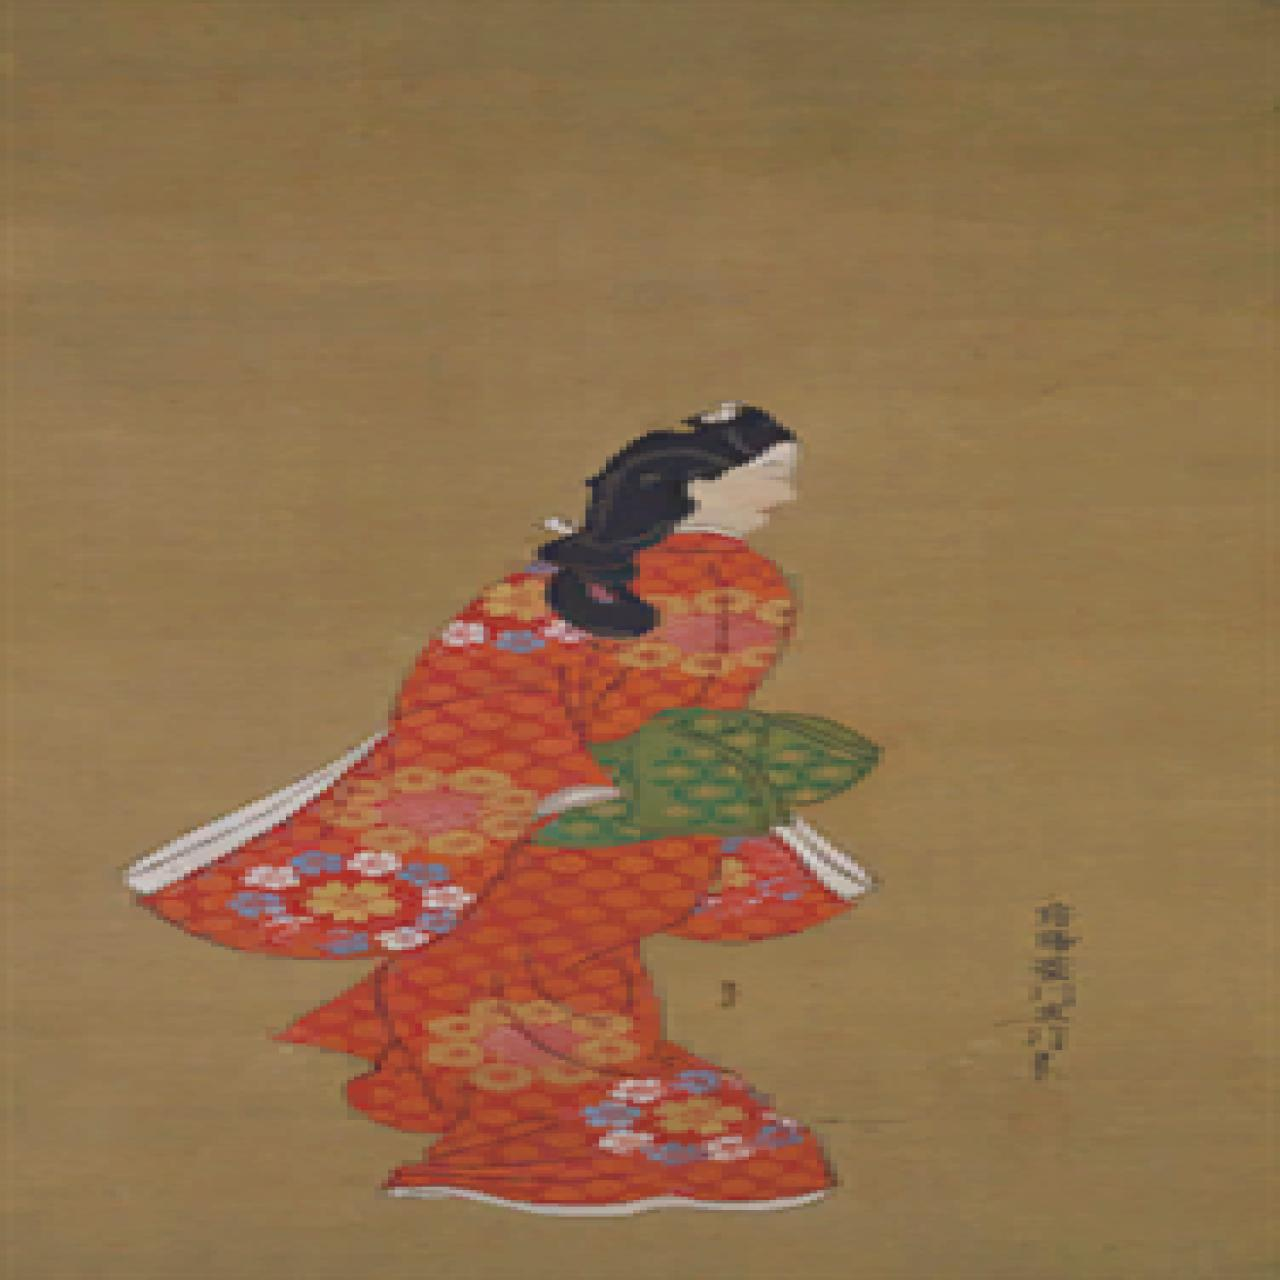Mikaeri: (1, 1, 1274, 1278)
